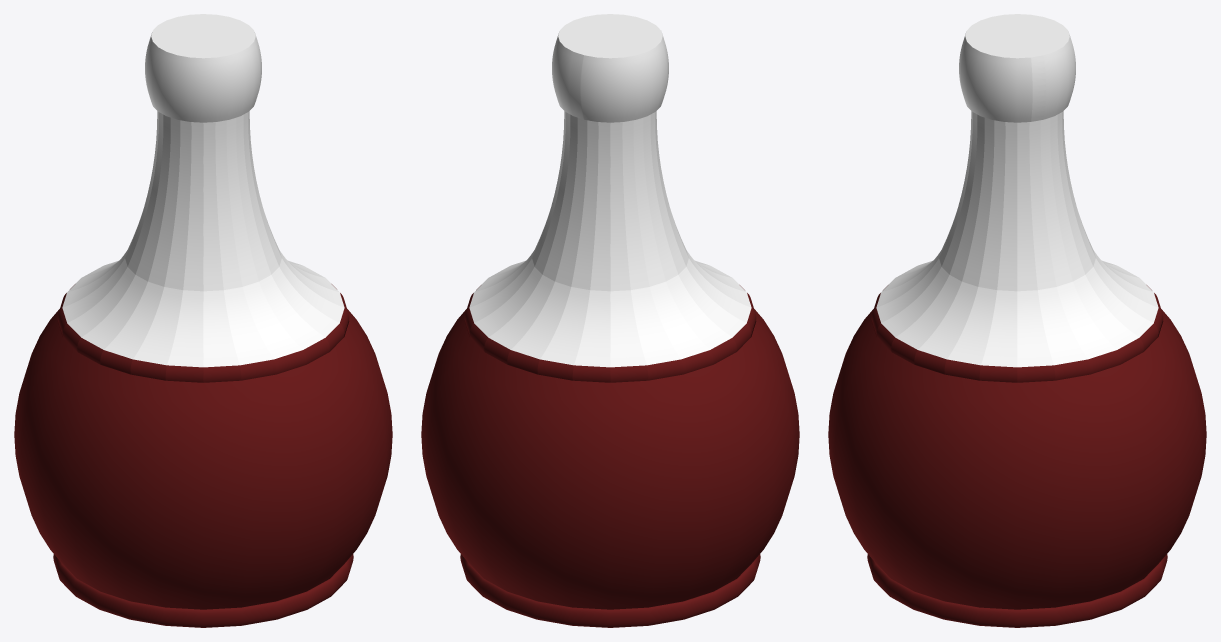
3 renders of one model, left to right at view 1: azimuth 30°, elevation 25°; view 2: azimuth 150°, elevation 25°; view 3: azimuth 270°, elevation 25°, orthographic.
Visible parts, largest first — view 1: mesh2_mesh2-geometry, mesh6_mesh6-geometry, mesh1_mesh1-geometry; view 2: mesh2_mesh2-geometry, mesh6_mesh6-geometry, mesh1_mesh1-geometry; view 3: mesh2_mesh2-geometry, mesh6_mesh6-geometry, mesh1_mesh1-geometry.
Part boxes in pixels (x1,y1,x2,y2): mesh2_mesh2-geometry: (14, 111, 392, 609); mesh6_mesh6-geometry: (145, 14, 261, 122); mesh1_mesh1-geometry: (53, 554, 353, 627); mesh2_mesh2-geometry: (421, 111, 799, 609); mesh6_mesh6-geometry: (552, 14, 668, 122); mesh1_mesh1-geometry: (460, 554, 760, 627); mesh2_mesh2-geometry: (828, 111, 1206, 609); mesh6_mesh6-geometry: (959, 14, 1075, 122); mesh1_mesh1-geometry: (867, 554, 1167, 627).
Bounding box in the file's own units: 0.4773 × 0.7378 × 0.4773.
